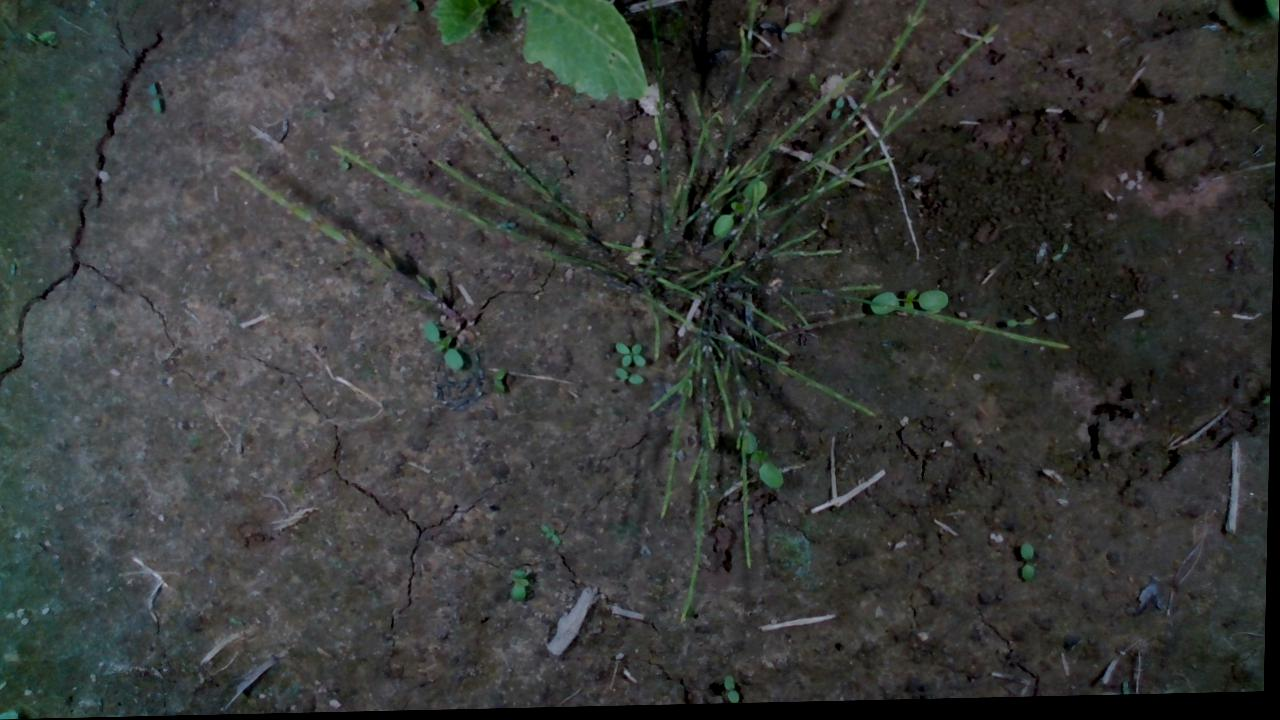weed: (422, 321, 465, 375), (614, 342, 648, 370), (508, 568, 532, 604), (1020, 543, 1038, 586), (539, 523, 564, 550), (612, 369, 645, 389), (145, 81, 163, 117), (724, 677, 742, 705), (492, 367, 509, 396), (1007, 322, 1037, 331)
